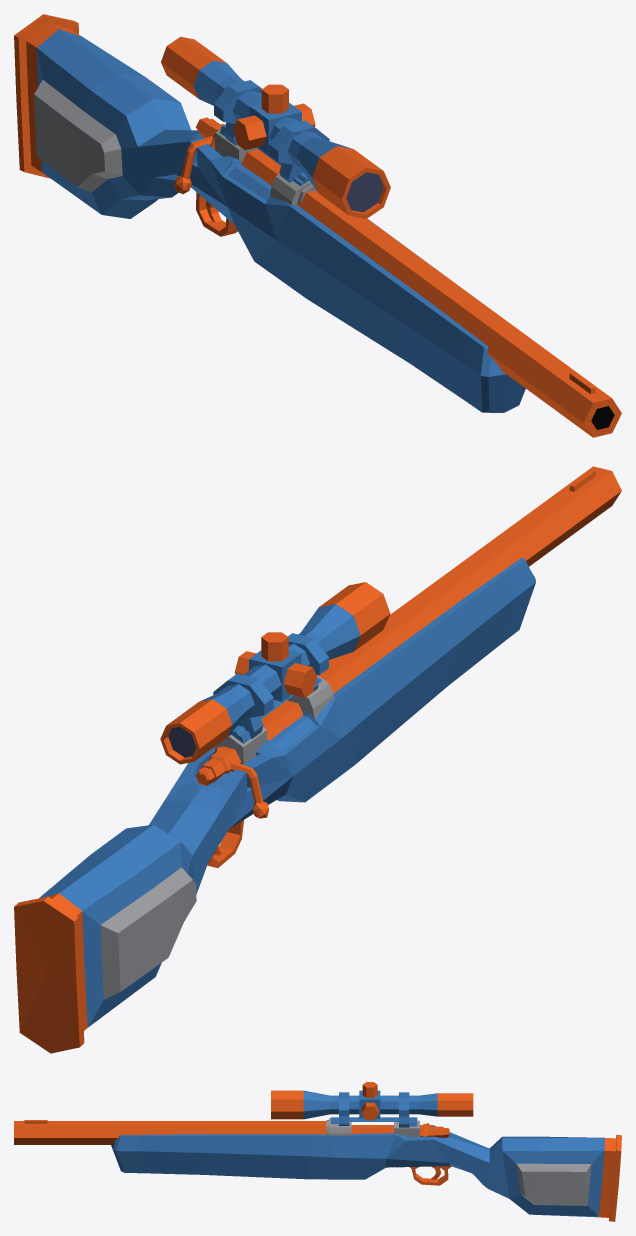
File: arma.glb
3 renders of one model, top to bottom at view 1: azimuth 30°, elevation 25°; view 2: azimuth 150°, elevation 25°; view 3: azimuth 270°, elevation 25°, orthographic. The views are drawn at different scales.
Visible parts, largest first — view 1: Arma; view 2: Arma; view 3: Arma.
Boxes of the visible parts, left/top/right/bottom form: Arma: left=14, top=14, right=621, bottom=437; Arma: left=14, top=466, right=621, bottom=1053; Arma: left=14, top=1082, right=621, bottom=1221.
Bounding box in the file's own units: 0.0987 × 0.2579 × 1.04.
1 material, 1 textured.
